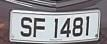1: (49, 17, 60, 39), (82, 15, 92, 39)
4: (58, 16, 72, 40)
8: (72, 16, 85, 39)
F: (33, 15, 47, 40)
S: (18, 14, 33, 40)
